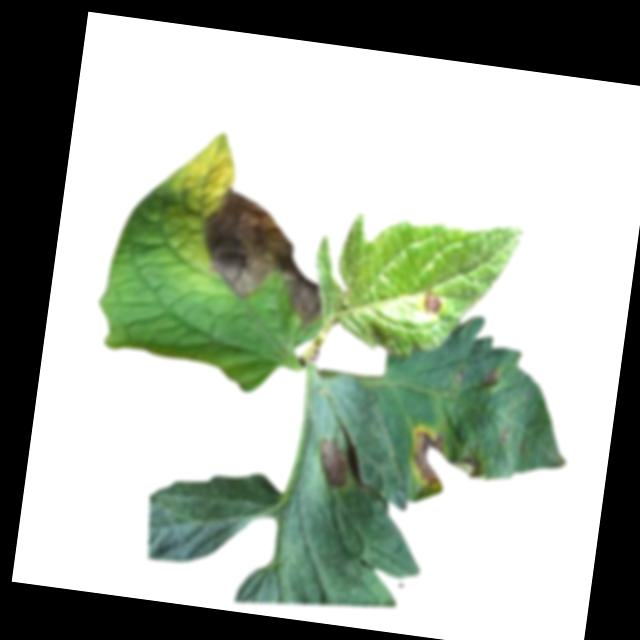Early_blight: (190, 185, 337, 333), (406, 425, 489, 492), (312, 435, 351, 491), (421, 290, 443, 319), (480, 369, 500, 389)
